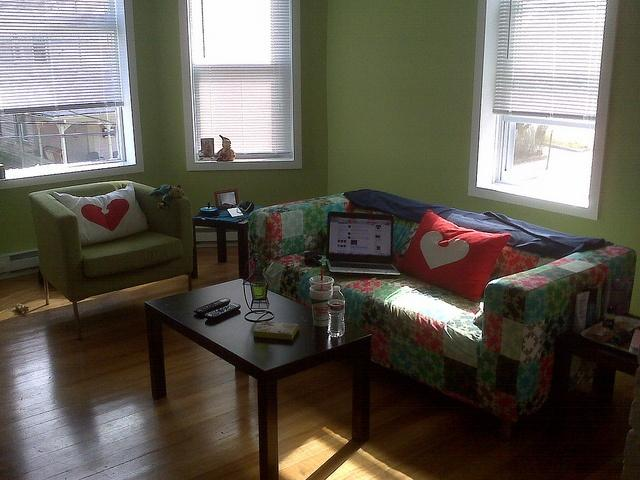Meja: (144, 276, 372, 479)
